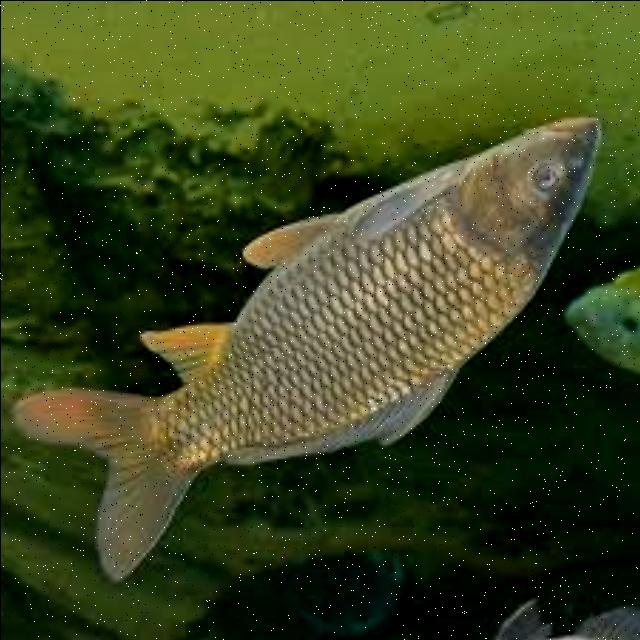Mulut: (525, 90, 611, 166)
Sirip Anal: (132, 310, 234, 394)
Sirip Ekor: (4, 373, 196, 587)
Sirip Punggung: (220, 360, 462, 470)
